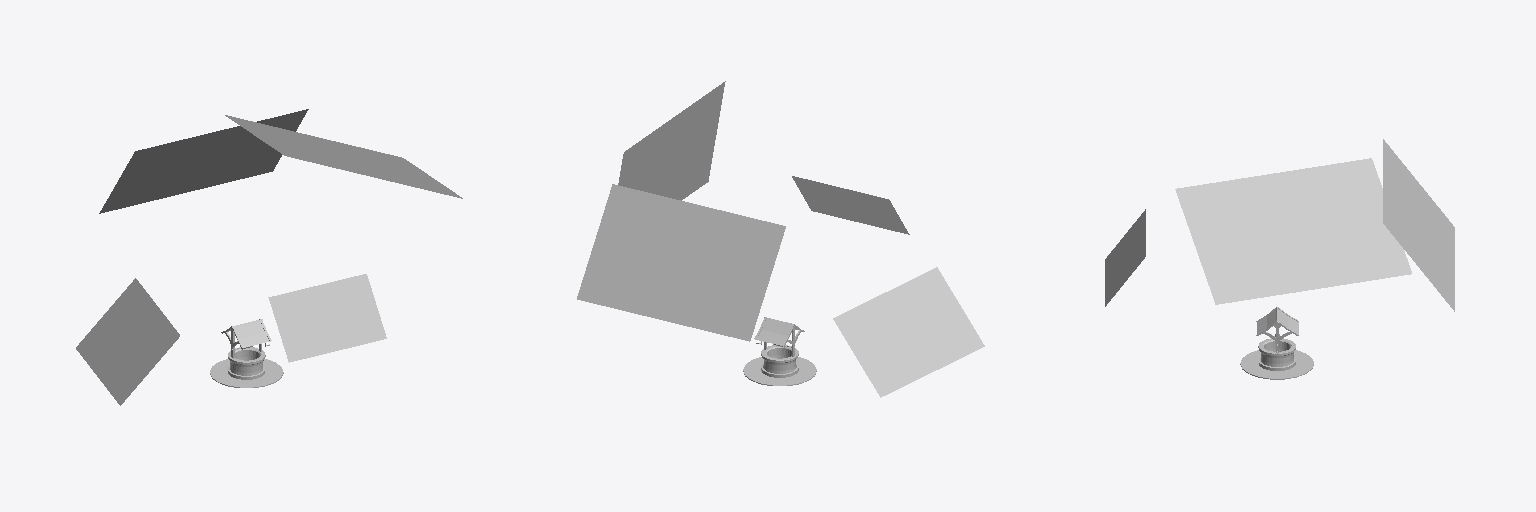
The model's file is well.obj.
3 renders of one model, left to right at view 1: azimuth 30°, elevation 25°; view 2: azimuth 150°, elevation 25°; view 3: azimuth 270°, elevation 25°, orthographic.
Parts seen in each view (by area): view 1: light_6_Plane.003, light_1_Plane, light_2_Plane.001, light_3_Plane.002, well_base_Cylinder.001, well_lower_Cylinder, well_roof_Cube; view 2: light_6_Plane.003, light_2_Plane.001, light_3_Plane.002, light_1_Plane, well_base_Cylinder.001, well_lower_Cylinder, well_roof_Cube; view 3: light_3_Plane.002, light_6_Plane.003, light_1_Plane, well_base_Cylinder.001, well_lower_Cylinder, well_roof_Cube.
Boxes of the visible parts, box(x1,y1,x2,y2) form: light_6_Plane.003: box(99, 109, 308, 213); light_1_Plane: box(268, 274, 386, 362); light_2_Plane.001: box(76, 278, 179, 405); light_3_Plane.002: box(225, 115, 462, 198); well_base_Cylinder.001: box(210, 359, 283, 387); well_lower_Cylinder: box(228, 347, 265, 379); well_roof_Cube: box(221, 319, 271, 347); light_6_Plane.003: box(577, 184, 785, 341); light_2_Plane.001: box(833, 267, 984, 397); light_3_Plane.002: box(618, 81, 725, 200); light_1_Plane: box(792, 176, 909, 234); well_base_Cylinder.001: box(743, 357, 816, 385); well_lower_Cylinder: box(761, 345, 798, 377); well_roof_Cube: box(754, 317, 804, 346); light_3_Plane.002: box(1175, 158, 1411, 304); light_6_Plane.003: box(1383, 139, 1454, 311); light_1_Plane: box(1105, 209, 1145, 306); well_base_Cylinder.001: box(1240, 350, 1313, 379); well_lower_Cylinder: box(1258, 338, 1295, 370); well_roof_Cube: box(1256, 307, 1298, 335).
Size of the model in its own units: 129 by 79.37 by 111.